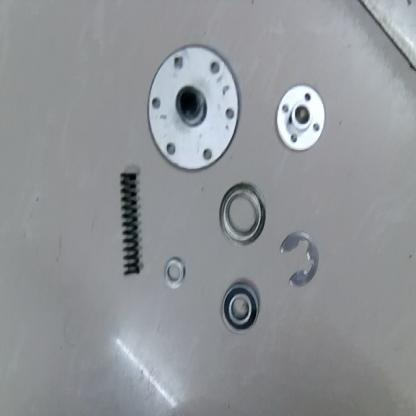FOD: (146, 44, 242, 174), (214, 182, 270, 251), (273, 86, 326, 153), (115, 171, 144, 280), (280, 229, 323, 292), (219, 281, 262, 334), (163, 257, 187, 294)
